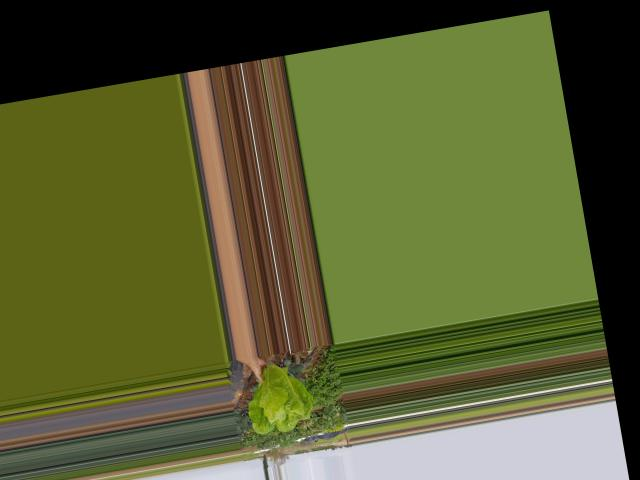lettuce: (237, 353, 319, 438)
